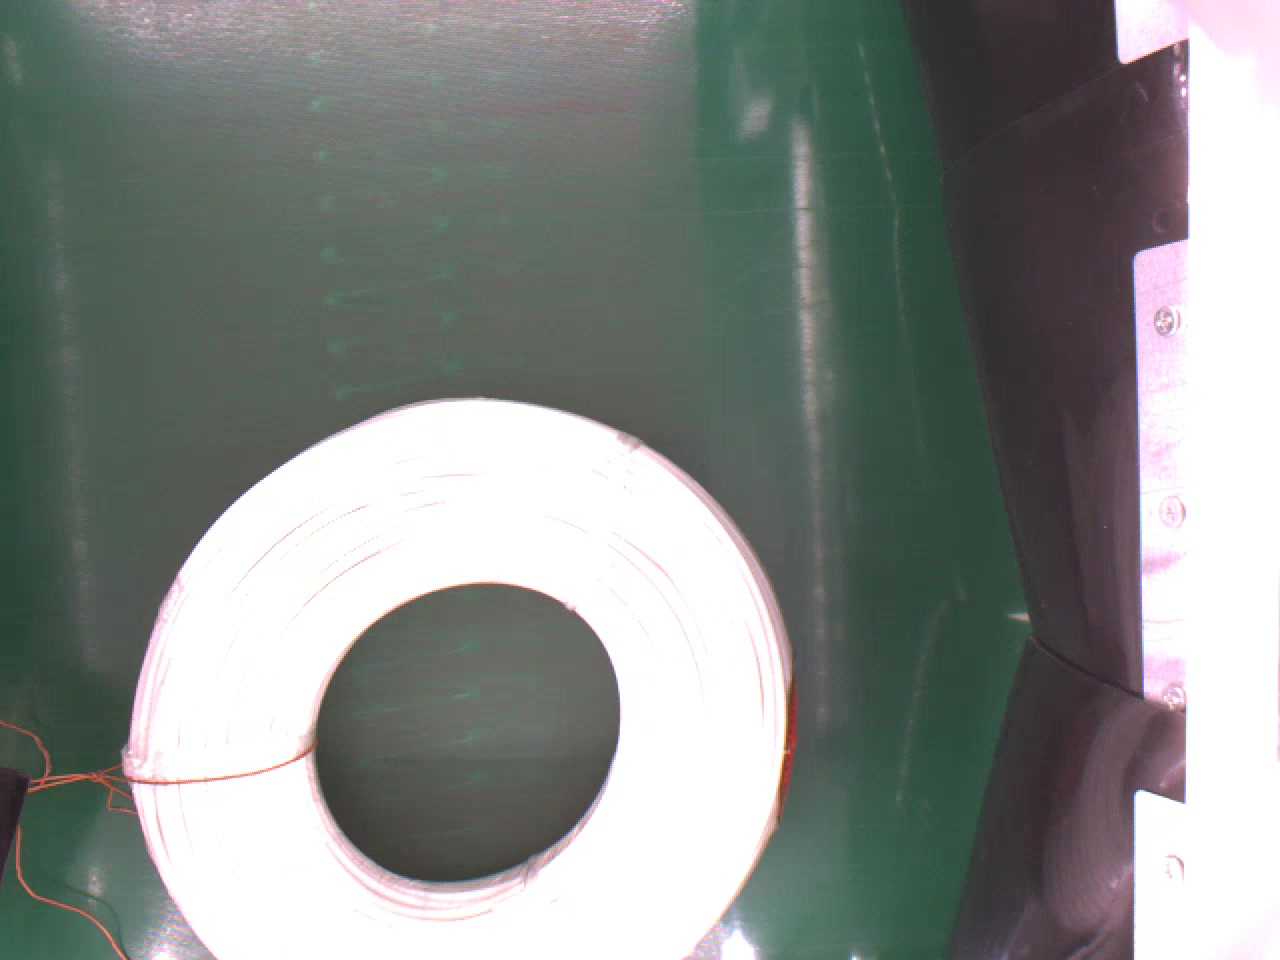white: (115, 394, 808, 960)
